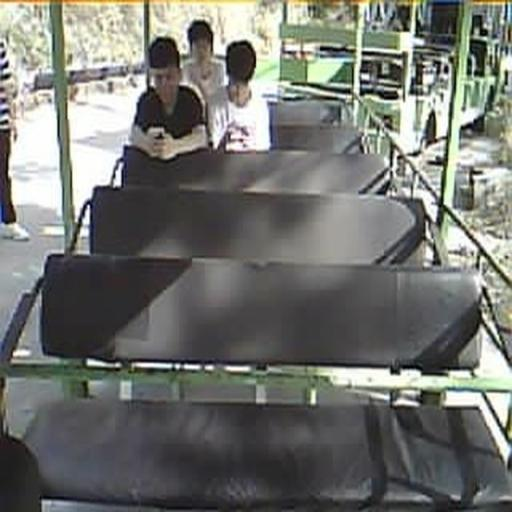persona: (127, 36, 211, 160), (206, 38, 272, 154), (180, 18, 226, 98)
